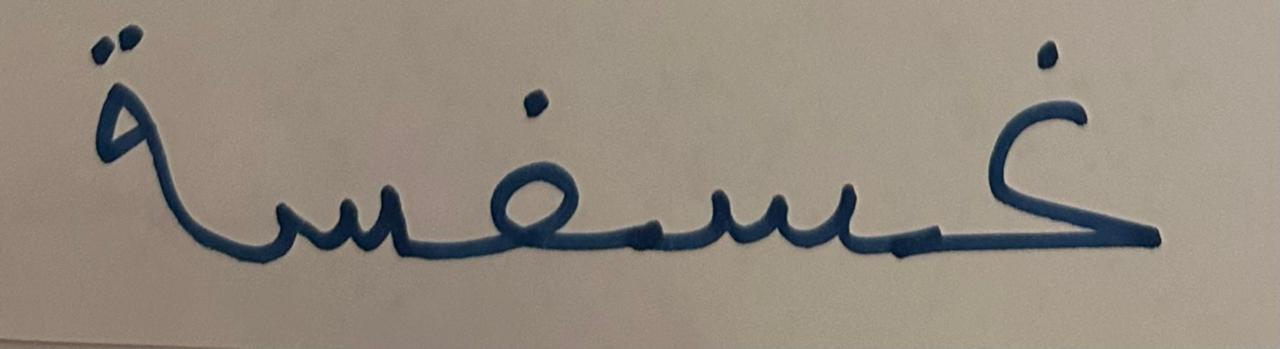feh: (443, 12, 639, 313)
ghain: (908, 4, 1188, 303)
sheen: (642, 25, 903, 316), (224, 42, 440, 310)
thal: (56, 4, 219, 307)
